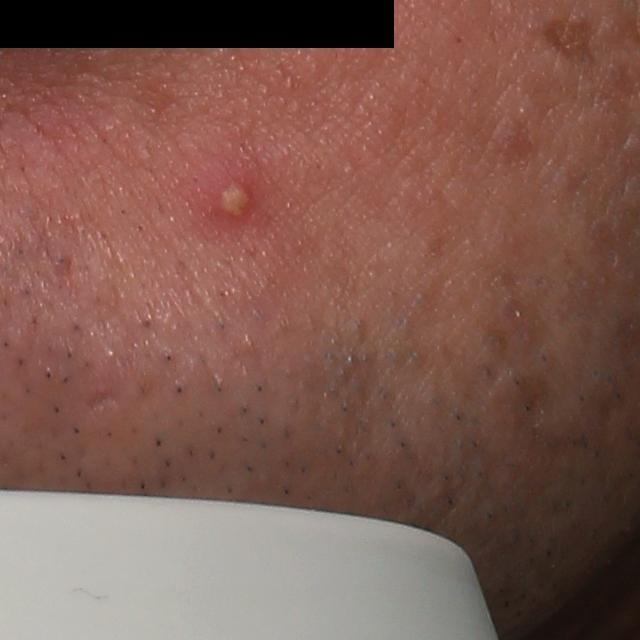atrophic_scar: (541, 18, 593, 69), (86, 386, 126, 417)
pustule: (202, 167, 262, 237)
